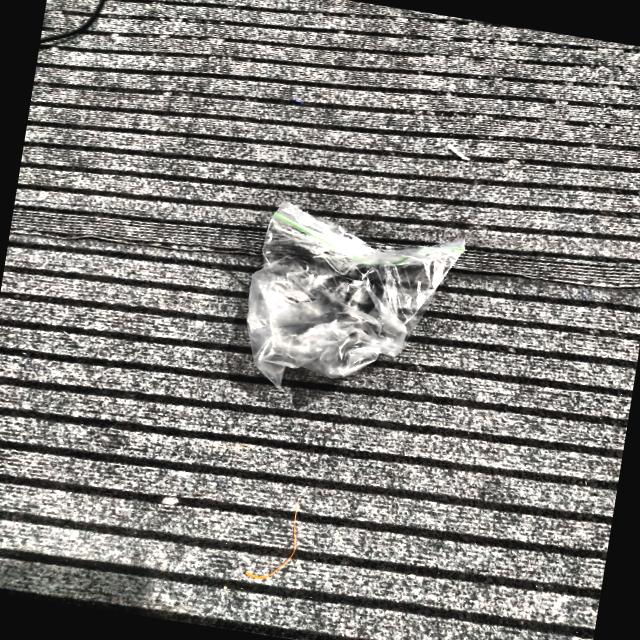plastic bag: (247, 202, 464, 387)
